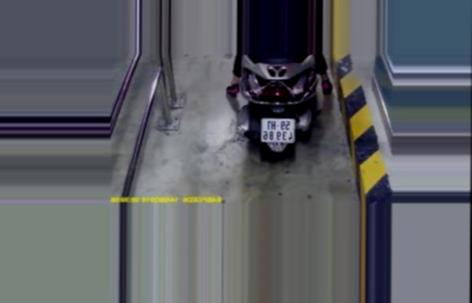License_Plate: (257, 116, 299, 146)
